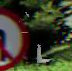Don't turn left: (1, 5, 34, 69)
